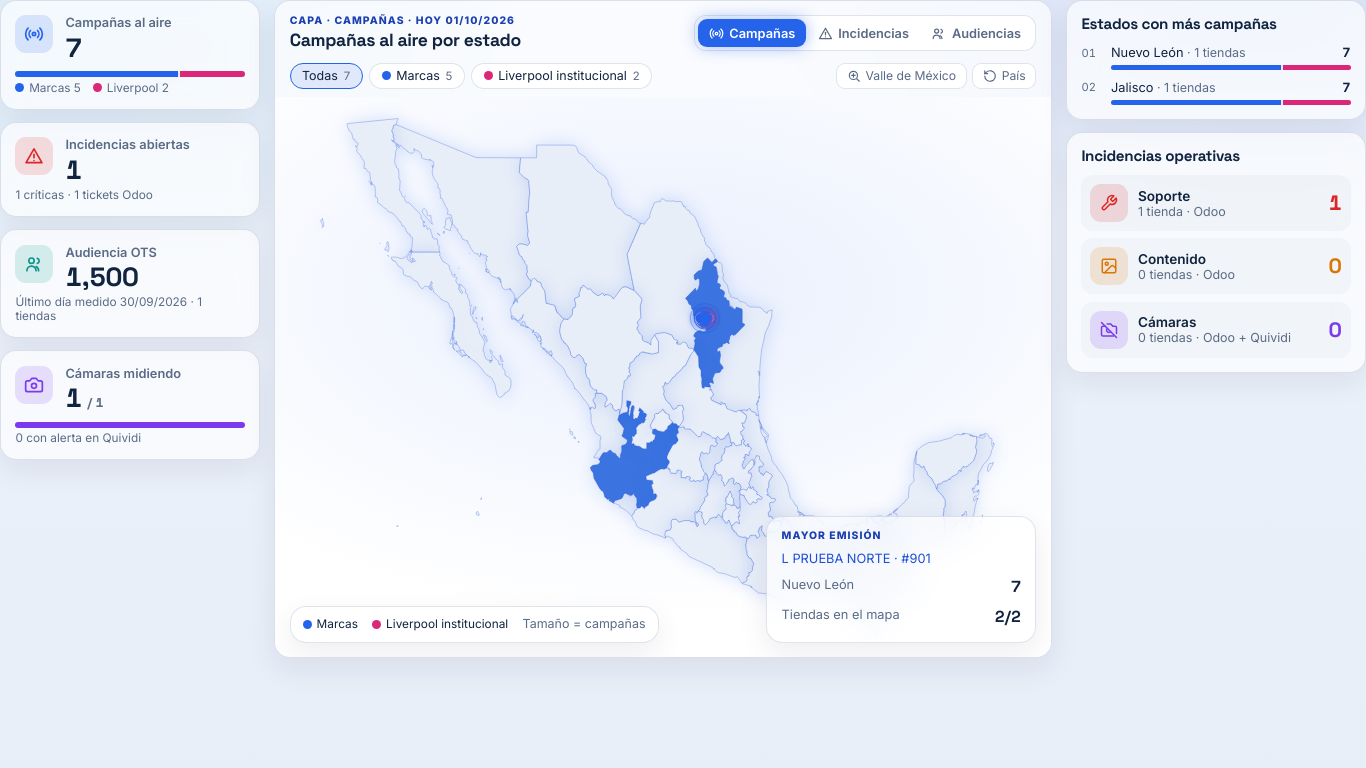
Scenario: Centro de Control › las tarjetas abren una ventana flotante que se cierra con Escape
Click the button "Incidencias abiertas 1 1 críticas · 1 tickets Odoo" at (34, 156), box [0, 122, 260, 217]
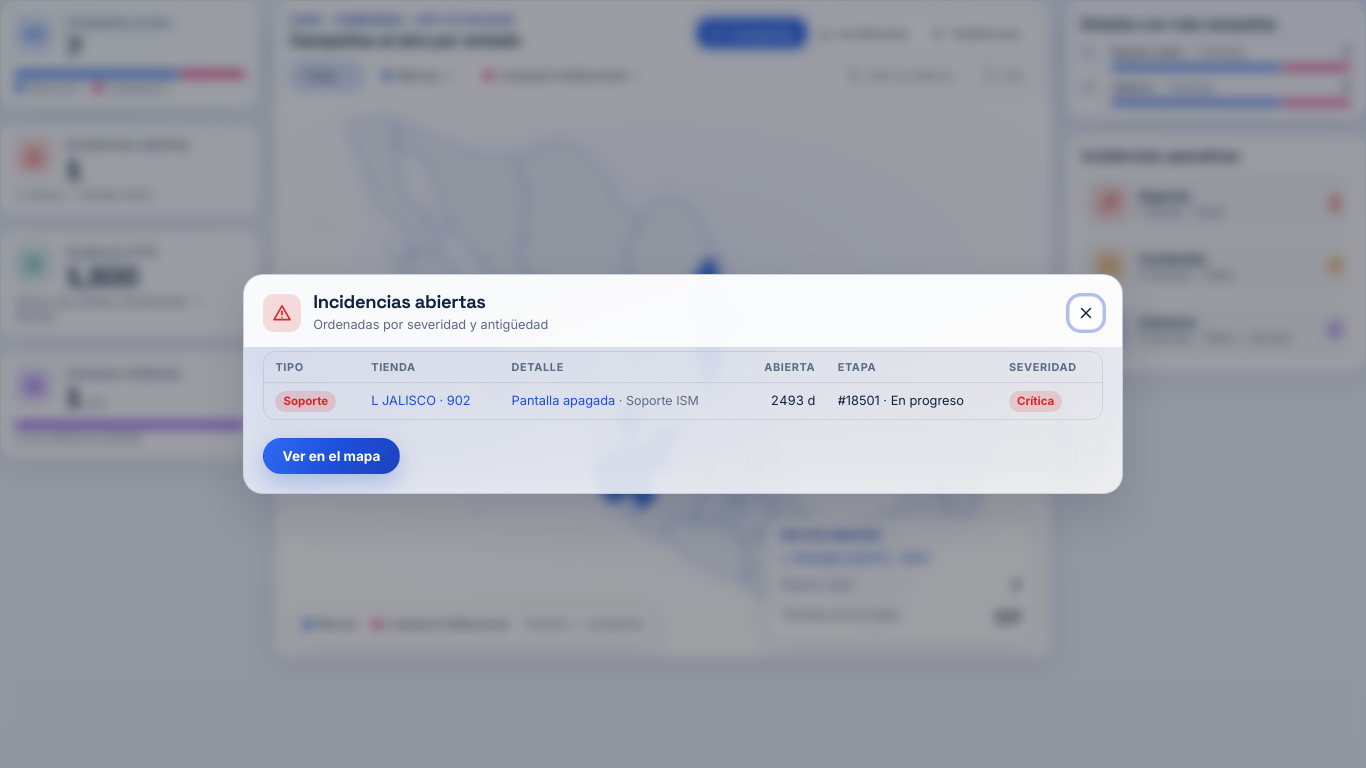
Expected: the button "L JALISCO · 902" is shown, [371, 392, 471, 411]
Press Escape
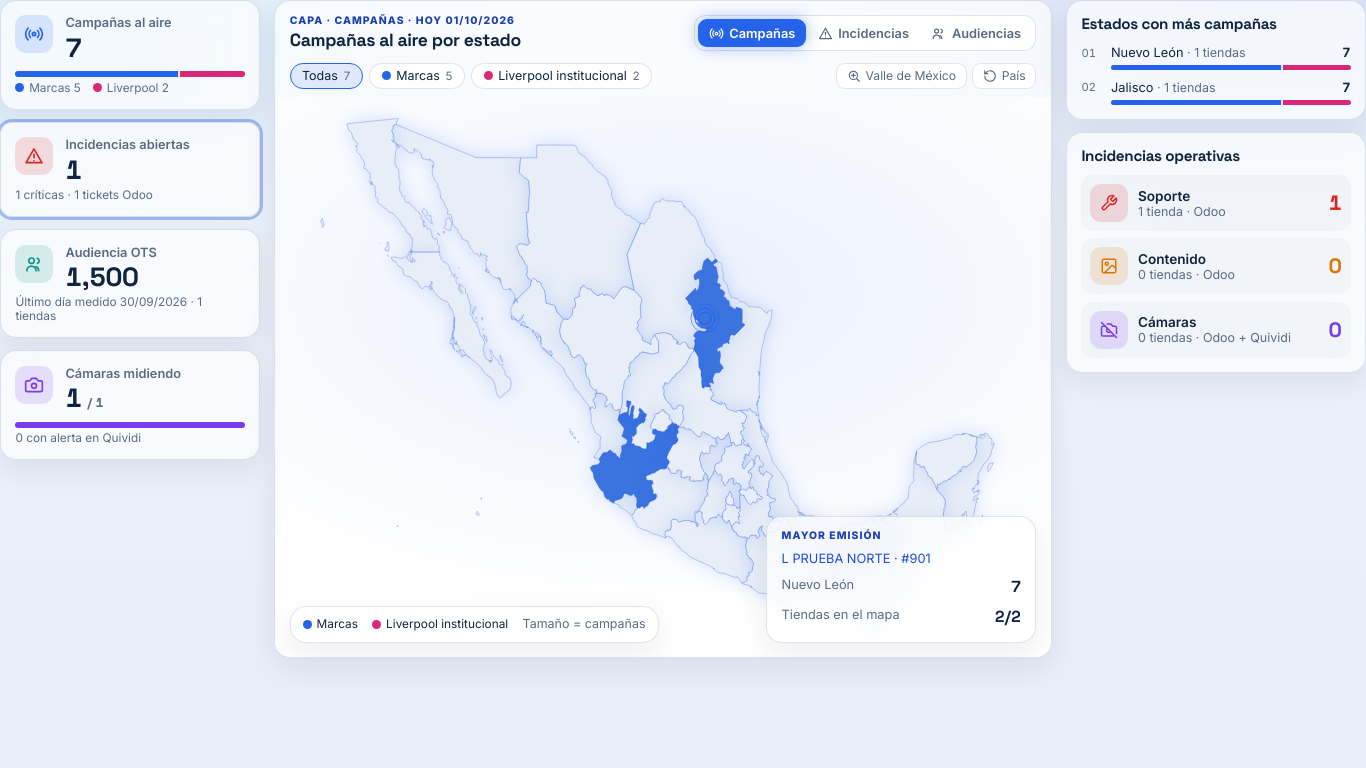
Expected: the dialog is gone
